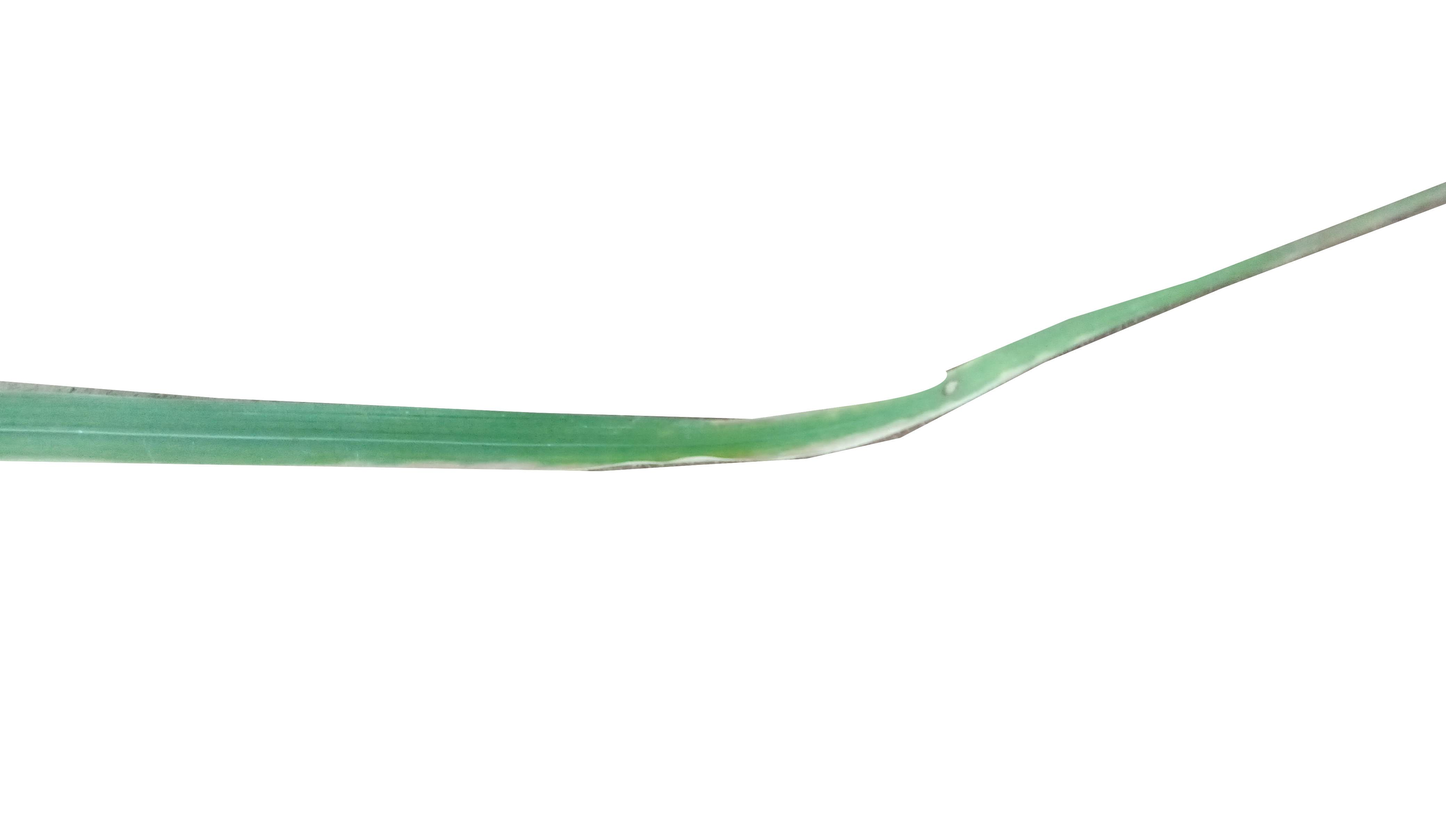Blight: (605, 443, 749, 467)
